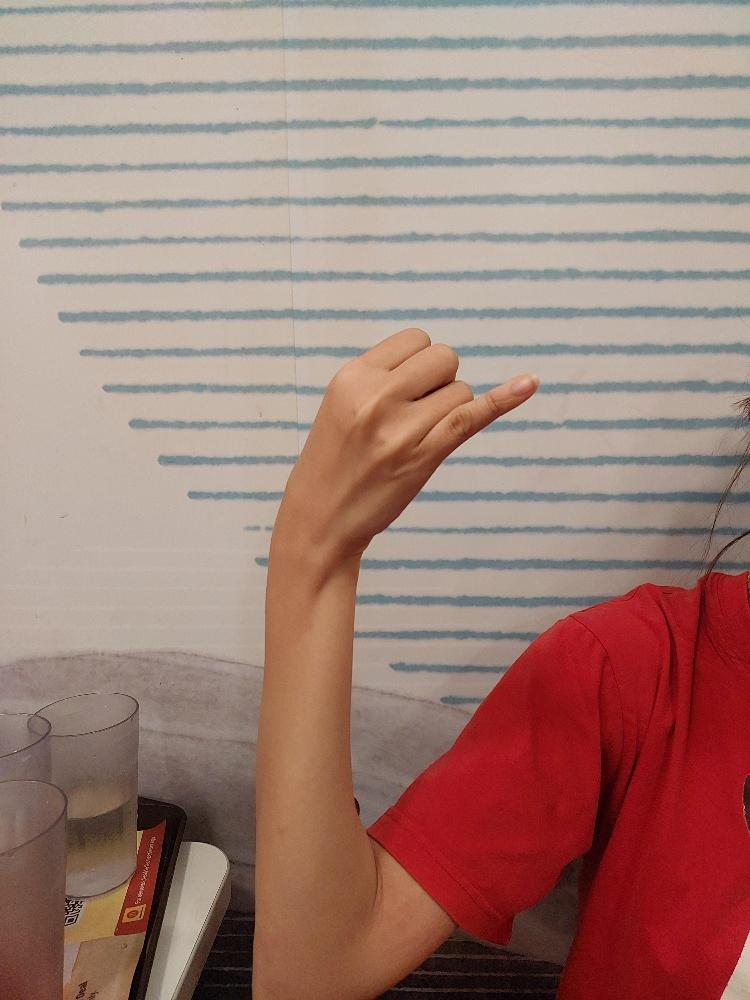j: (278, 323, 541, 565)
